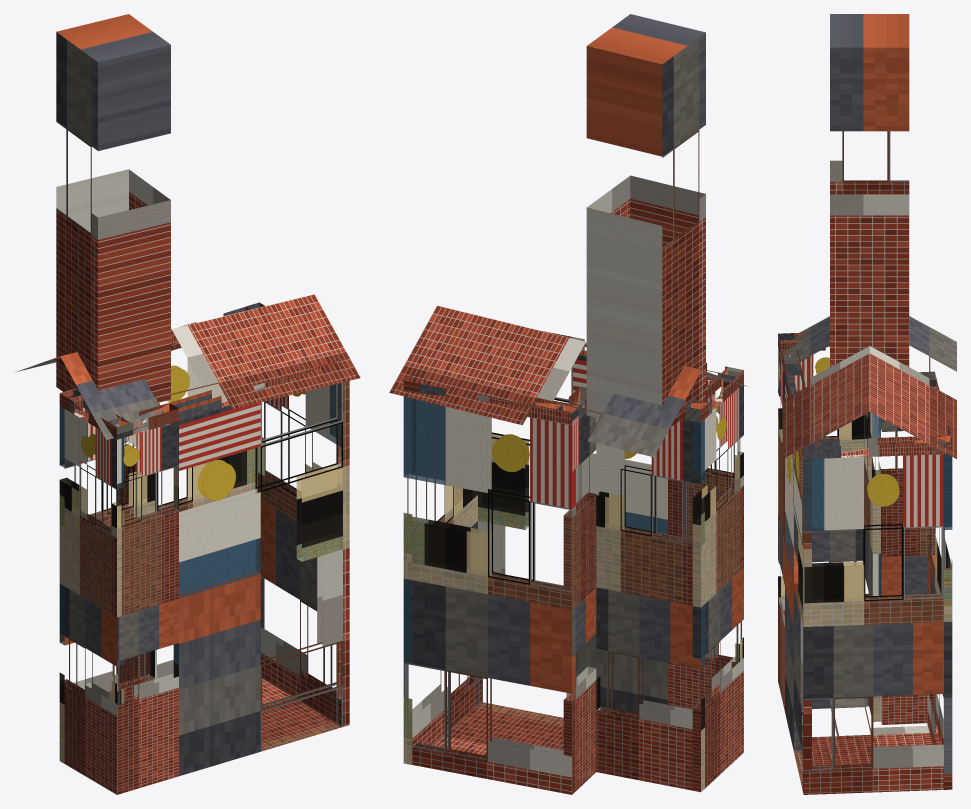
3 views of the same model, side by side, from view 1: azimuth 30°, elevation 25°; view 2: azimuth 150°, elevation 25°; view 3: azimuth 270°, elevation 25° (orthographic). The views are drawn at different scales.
Parts seen in each view (by area): view 1: 238625166__wall_5_xb, 238625166__chimney_0_xb, 238625166__wall_4_xb, 238625166_roof_-1_xb, 238625166__wall_3_xb, 238625166__wall_6_xb, 238625166__wall_5_xf, 238625166__wall_2_xb, 238625166__wall_0_xb, 238625166__base, 238625166__wall_2_xf, 238625166__cornice_5 (+5 smaller); view 2: 238625166__chimney_0_xb, 238625166__wall_0_xb, 238625166__wall_2_xb, 238625166_roof_1_xb, 238625166__wall_3_xb, 238625166__wall_5_xb, 238625166__wall_1_xb, 238625166__wall_6_xb, 238625166__wall_0_xf, 238625166__wall_4_xb, 238625166__base, 238625166__wall_5_xf (+5 smaller); view 3: 238625166__wall_6_xb, 238625166__chimney_0_xb, 238625166__wall_5_xb, 238625166_roof_1_xb, 238625166_roof_-1_xb, 238625166__wall_1_xb, 238625166__wall_0_xb, 238625166__wall_3_xb, 238625166__wall_6_xf, 238625166__base, 238625166__wall_2_xb, 238625166__cornice_6 (+6 smaller).
Part boxes in pixels (bbox=[...]): 238625166__wall_5_xb: bbox=[173, 381, 349, 776]; 238625166__chimney_0_xb: bbox=[56, 14, 170, 411]; 238625166__wall_4_xb: bbox=[111, 421, 178, 794]; 238625166_roof_-1_xb: bbox=[60, 294, 360, 439]; 238625166__wall_3_xb: bbox=[59, 409, 124, 794]; 238625166__wall_6_xb: bbox=[257, 383, 341, 726]; 238625166__wall_5_xf: bbox=[174, 465, 342, 664]; 238625166__wall_2_xb: bbox=[59, 406, 154, 763]; 238625166__wall_0_xb: bbox=[124, 359, 264, 678]; 238625166__base: bbox=[262, 678, 341, 751]; 238625166__wall_2_xf: bbox=[60, 407, 154, 703]; 238625166__cornice_5: bbox=[169, 357, 349, 420]; 238625166__chimney_0_xb: bbox=[586, 14, 705, 427]; 238625166__wall_0_xb: bbox=[403, 398, 575, 794]; 238625166__wall_2_xb: bbox=[596, 418, 704, 791]; 238625166_roof_1_xb: bbox=[389, 305, 701, 457]; 238625166__wall_3_xb: bbox=[692, 383, 743, 792]; 238625166__wall_5_xb: bbox=[469, 355, 667, 713]; 238625166__wall_1_xb: bbox=[563, 404, 596, 794]; 238625166__wall_6_xb: bbox=[403, 396, 481, 764]; 238625166__wall_0_xf: bbox=[404, 399, 491, 576]; 238625166__wall_4_xb: bbox=[668, 379, 743, 709]; 238625166__base: bbox=[433, 702, 563, 755]; 238625166__wall_5_xf: bbox=[478, 434, 667, 533]; 238625166__wall_6_xb: bbox=[803, 454, 952, 794]; 238625166__chimney_0_xb: bbox=[830, 14, 909, 367]; 238625166__wall_5_xb: bbox=[785, 375, 811, 794]; 238625166_roof_1_xb: bbox=[869, 316, 956, 458]; 238625166_roof_-1_xb: bbox=[782, 316, 869, 458]; 238625166__wall_1_xb: bbox=[881, 418, 935, 724]; 238625166__wall_0_xb: bbox=[927, 454, 952, 789]; 238625166__wall_3_xb: bbox=[778, 350, 871, 616]; 238625166__wall_6_xf: bbox=[804, 459, 863, 602]; 238625166__base: bbox=[794, 698, 940, 789]; 238625166__wall_2_xb: bbox=[862, 412, 880, 721]; 238625166__cornice_6: bbox=[802, 435, 952, 459].
Size of the model in its own units: 0.525 by 1.4 by 0.3381.
1 material, 1 textured.
